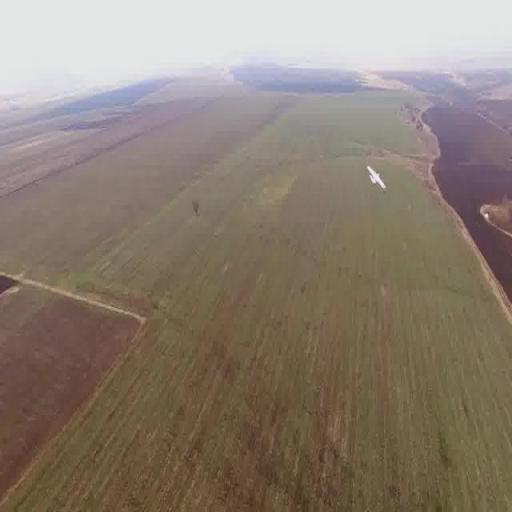uav: (365, 160, 386, 194)
